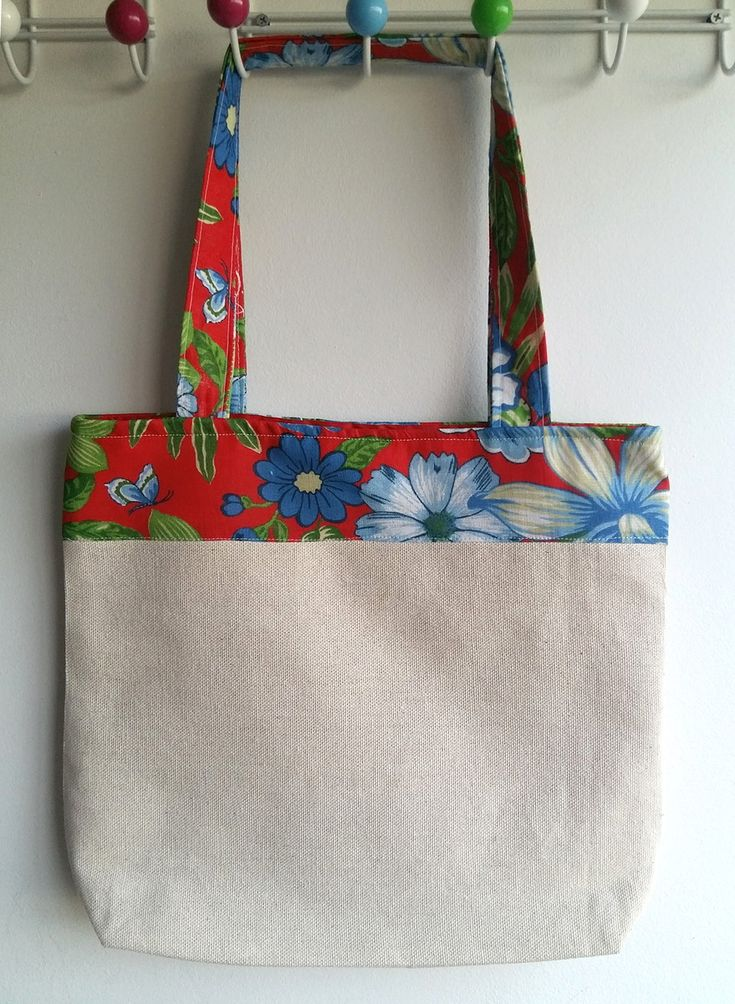nylon: (62, 32, 669, 967)
